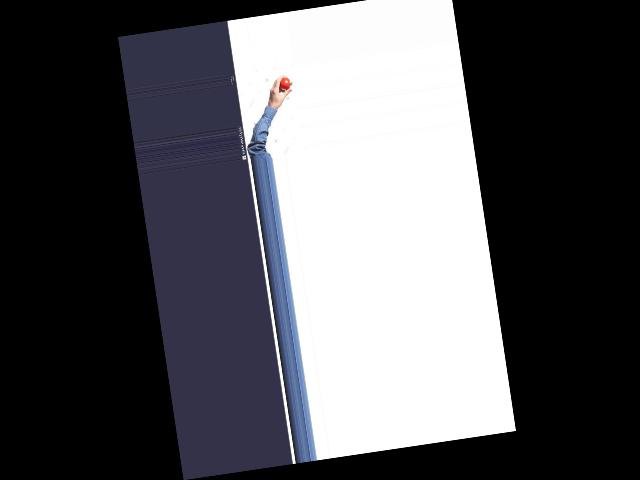tomato: (279, 76, 290, 89)
